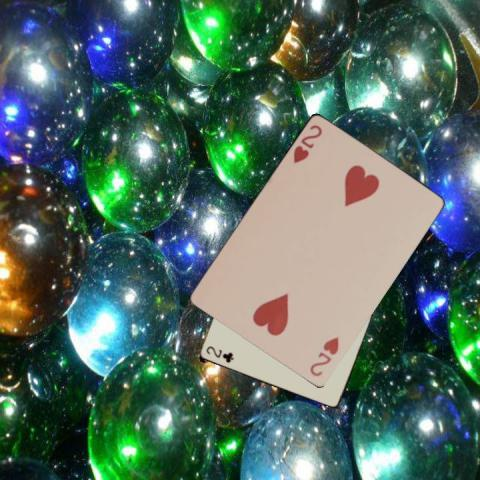2c: (204, 345, 236, 364)
2h: (290, 121, 324, 165), (306, 333, 340, 377)
